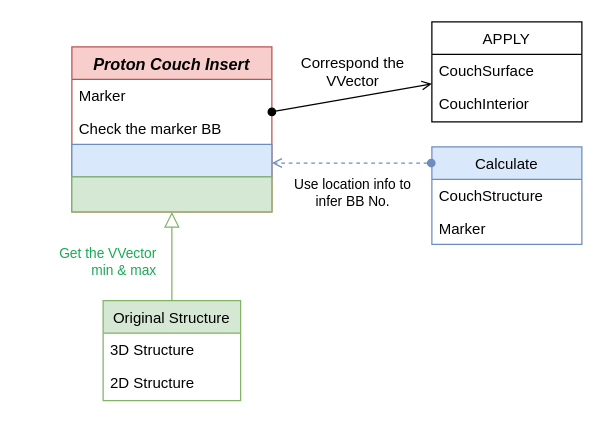
Some shapes in this 604 by 424 pixel diagram are drawn without their labels. Each missing label, with the centre of its shape:
"Build Couch Model" goes at (x=171, y=194).
"Double check" goes at (x=171, y=160).
